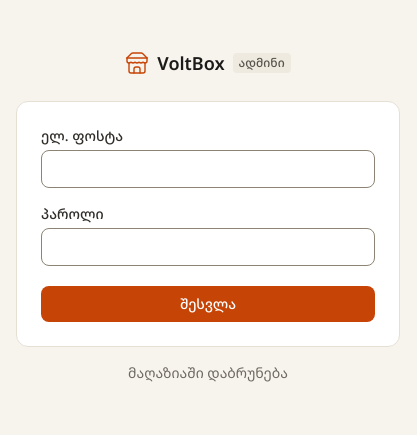
AdminLogin › passes on the lockout message instead of blaming the password
Type "boss@voltbox.ge" into the field labelled "ელ. ფოსტა" at (208, 169), box [41, 150, 375, 188]
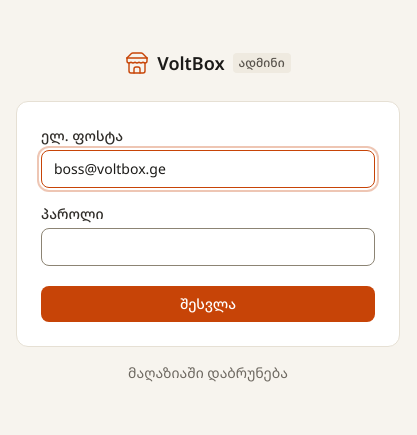
Type "supersecret1" into the password field labelled "პაროლი" at (208, 247), box [41, 228, 375, 266]
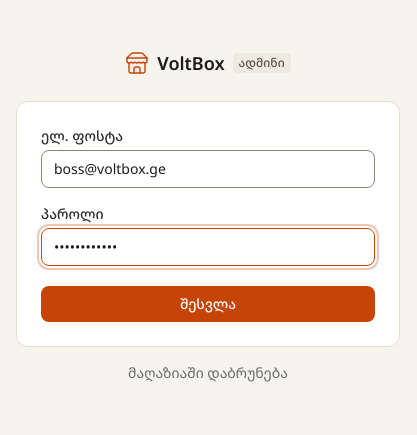
Click the button "შესვლა" at (208, 304), box [41, 286, 375, 322]
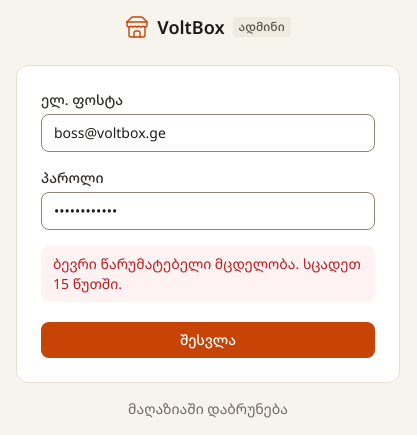
Result: the message shows "სცადეთ 15 წუთში." at [53, 254, 361, 293]
